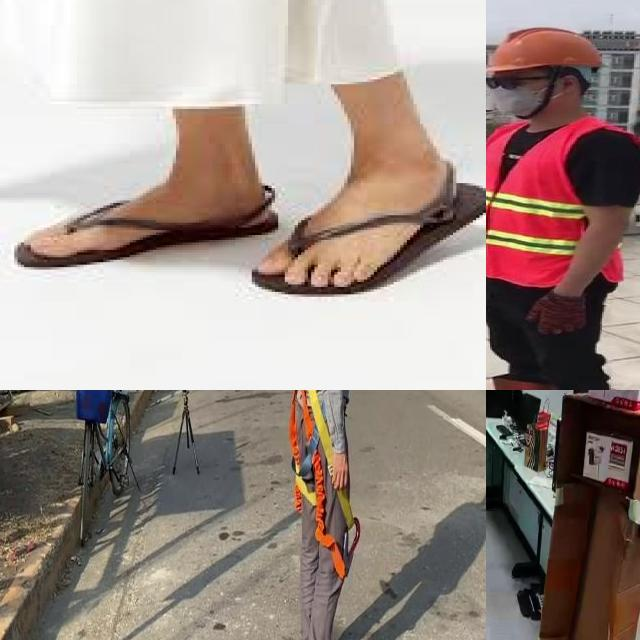Harness: (290, 390, 361, 578)
No_Ear-Protection: (558, 73, 582, 99)
Sandals: (0, 130, 486, 335)
head_helmet: (486, 21, 611, 80)
person: (486, 8, 640, 390)
vest: (486, 117, 627, 283)
